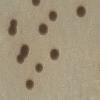brown: (48, 47, 60, 62), (16, 52, 29, 65), (74, 5, 88, 17), (38, 22, 49, 36), (6, 25, 18, 37), (24, 78, 35, 91), (47, 10, 58, 22), (34, 62, 45, 74), (20, 43, 30, 55), (9, 17, 19, 28), (30, 0, 42, 7)
